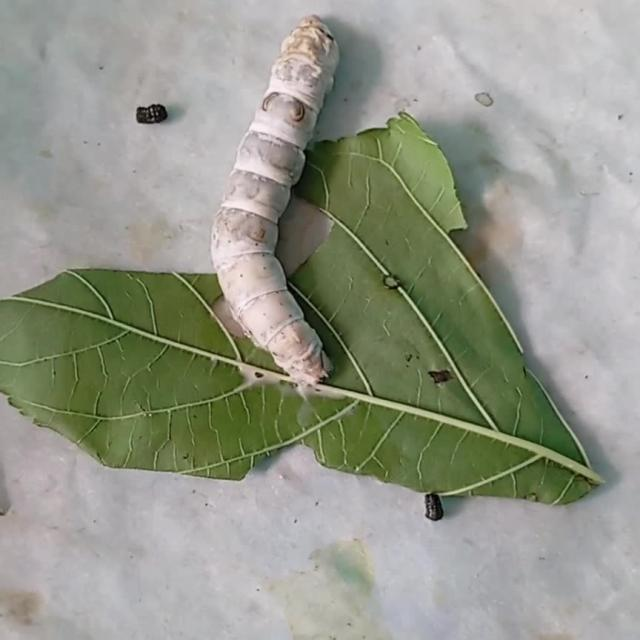Grasserie: (190, 2, 375, 431)
